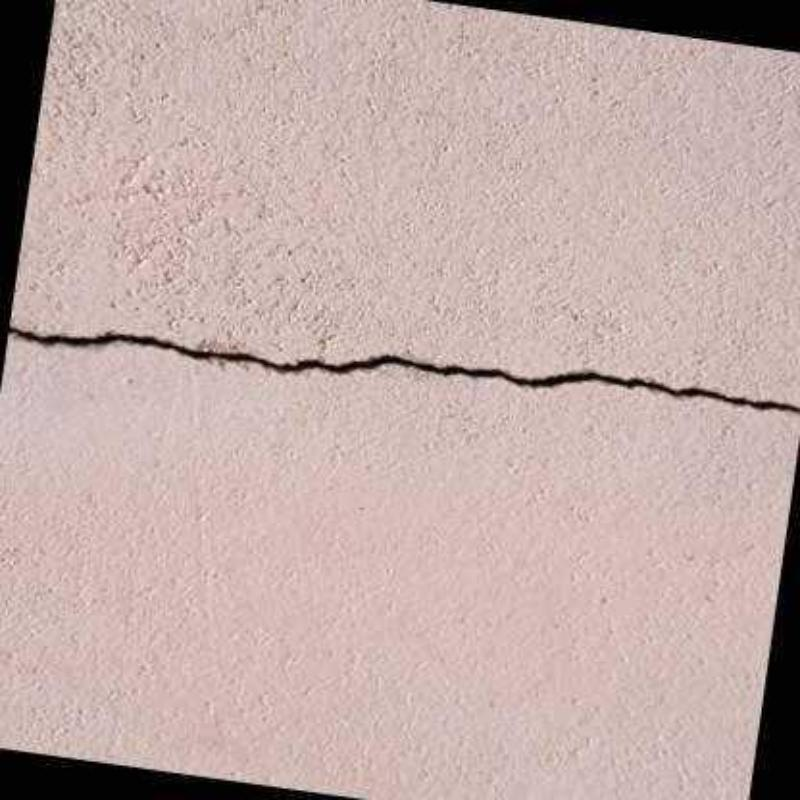pothole: (6, 325, 799, 415)
